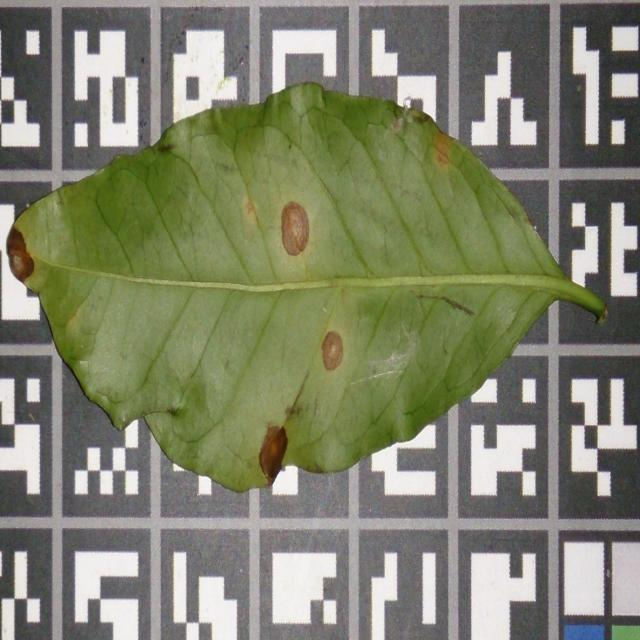Enfermedad-Mancha-de-hierro: (4, 83, 606, 495)
